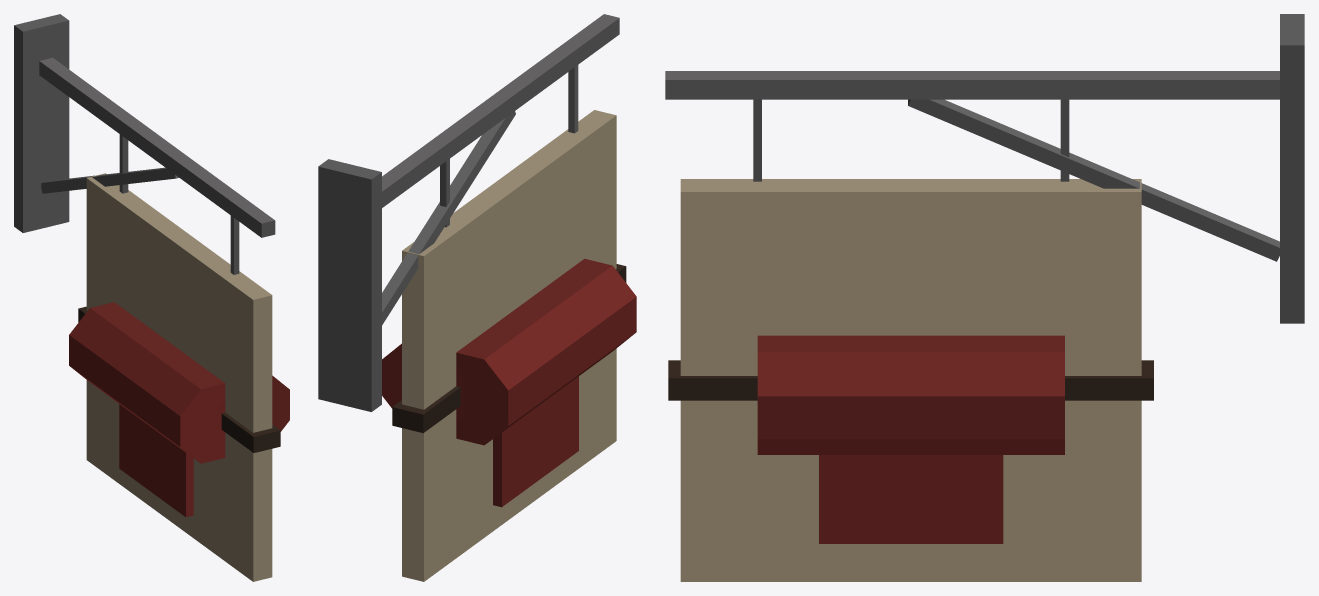
The model's file is walk_prop_sign_cloth.glb.
The picture shows the model from 3 angles, left to right: view 1: azimuth 30°, elevation 25°; view 2: azimuth 150°, elevation 25°; view 3: azimuth 270°, elevation 25°; orthographic projection. The views are drawn at different scales.
Parts seen in each view (by area): view 1: walk_prop_sign_cloth; view 2: walk_prop_sign_cloth; view 3: walk_prop_sign_cloth.
Boxes of the visible parts, x1,y1,x2,y2 form: walk_prop_sign_cloth: (14, 14, 289, 581); walk_prop_sign_cloth: (318, 14, 636, 581); walk_prop_sign_cloth: (665, 14, 1304, 581).
Size of the model in its own units: 0.2848 by 0.98 by 1.04.
Materials: 2 (2 with a texture image).
